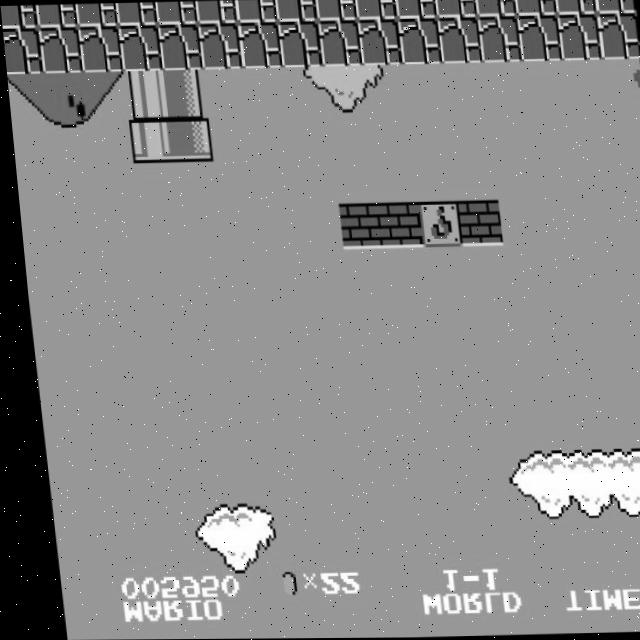1- brick_block: (333, 202, 379, 250), (373, 202, 419, 249), (453, 200, 498, 247)
13- mystery_block: (413, 201, 458, 248)
14- pipe: (160, 69, 206, 117), (120, 70, 166, 117)
15- pipe_head: (125, 116, 170, 163), (165, 115, 210, 162)
17- undestructible_block: (76, 25, 122, 73), (36, 26, 82, 73), (435, 17, 481, 64), (475, 16, 521, 63), (515, 15, 561, 62), (555, 14, 601, 61), (156, 23, 201, 71), (236, 21, 281, 69), (316, 19, 361, 67), (116, 24, 161, 71), (196, 23, 241, 70), (276, 21, 321, 68), (356, 19, 401, 66), (396, 18, 441, 65), (595, 14, 640, 61), (2, 28, 42, 75), (34, 4, 77, 28), (74, 3, 117, 27), (114, 2, 157, 26), (154, 1, 197, 25), (194, 0, 237, 24), (234, 0, 277, 23), (274, 0, 317, 22), (314, 0, 357, 21), (354, 0, 397, 20), (394, 0, 437, 20), (0, 6, 36, 29), (434, 0, 477, 18), (474, 0, 517, 17), (514, 0, 556, 16), (554, 0, 596, 16), (593, 0, 635, 15)
8- goomba: (627, 56, 640, 105)
